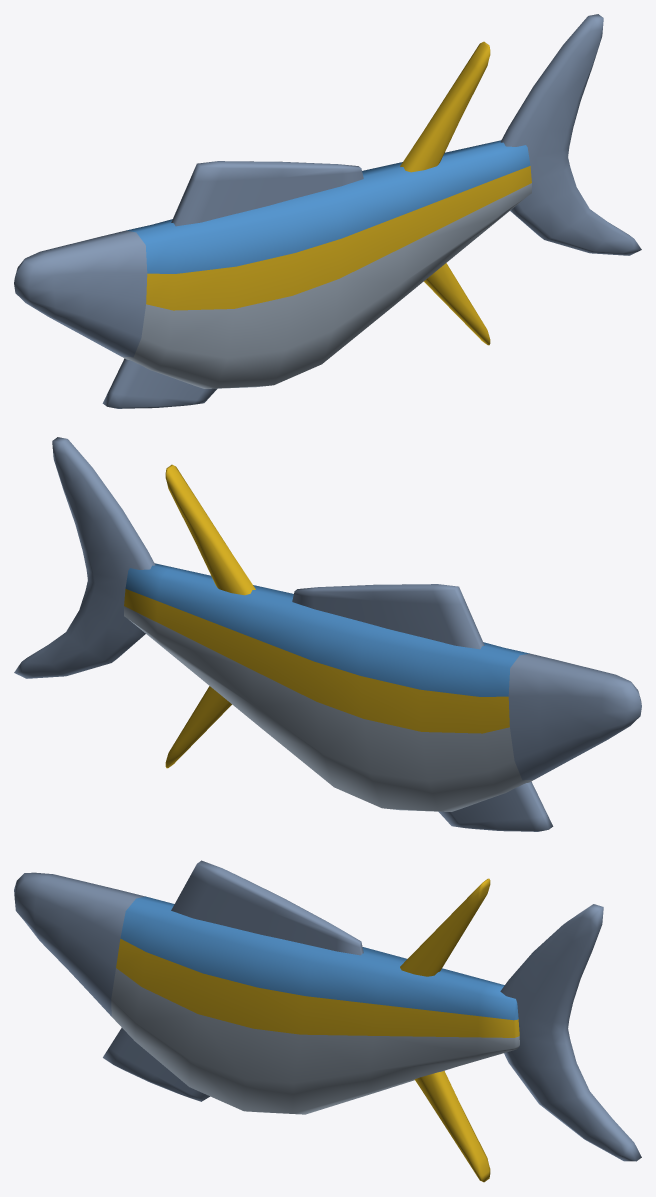
The model's file is Fish Tuna.glb.
The picture shows the model from 3 angles, top to bottom: view 1: azimuth 30°, elevation 25°; view 2: azimuth 150°, elevation 25°; view 3: azimuth 330°, elevation 25°; orthographic projection.
Parts seen in each view (by area): view 1: Prop_Fish_Tuna; view 2: Prop_Fish_Tuna; view 3: Prop_Fish_Tuna.
Part boxes in pixels (x1,y1,x2,y2): Prop_Fish_Tuna: [14, 14, 641, 408]; Prop_Fish_Tuna: [14, 437, 641, 831]; Prop_Fish_Tuna: [14, 860, 641, 1182].
Bounding box in the file's own units: 2.13 × 0.9759 × 0.2367.
Materials: 1 (1 with a texture image).
